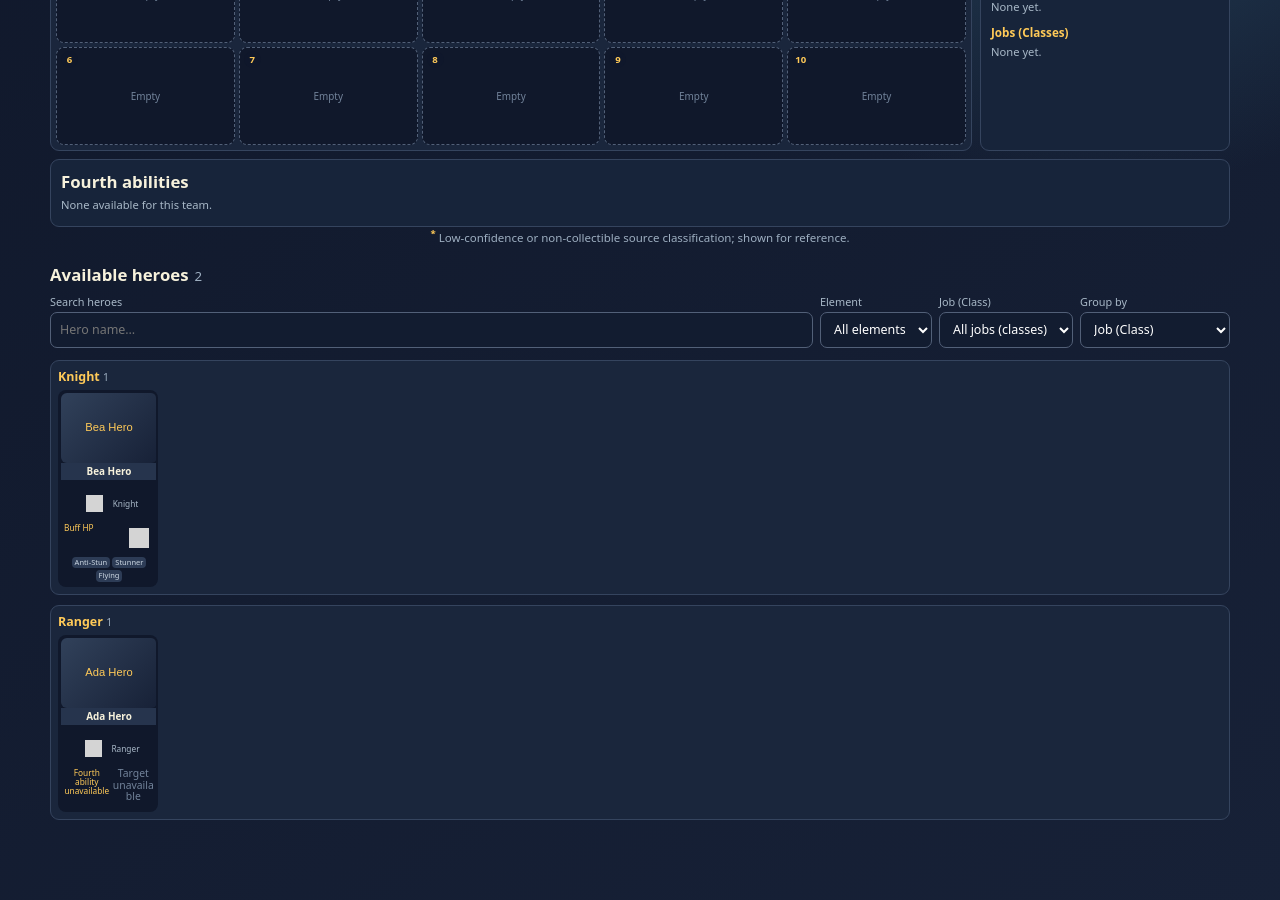
toggles a hero from either portrait list, clears, and updates summaries
(page scrolled)
Click the button with aria-label "Add Ada Hero to team". click: (108, 723)
box: x1=58 y1=635 x2=158 y2=812
(page scrolled)
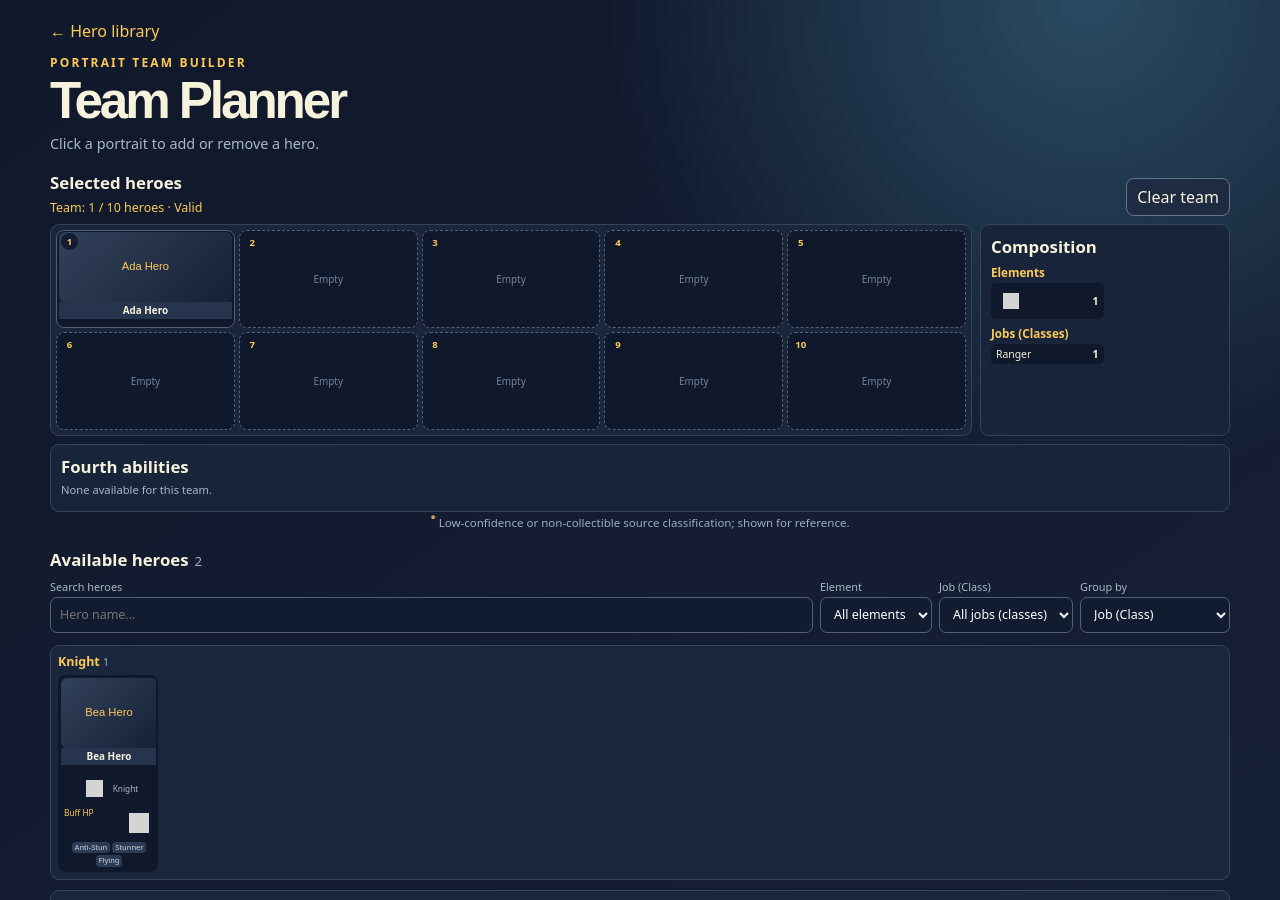
Check: the text "Team: 1 / 10 heroes · Valid" is shown, box x1=50 y1=199 x2=202 y2=216
Check: the list item "1" is shown, box x1=991 y1=283 x2=1104 y2=319
Check: the number of buttons named "Remove Ada Hero from team" is 2
Click the button titled "Remove Ada Hero". click: (145, 279)
box: x1=58 y1=231 x2=233 y2=327
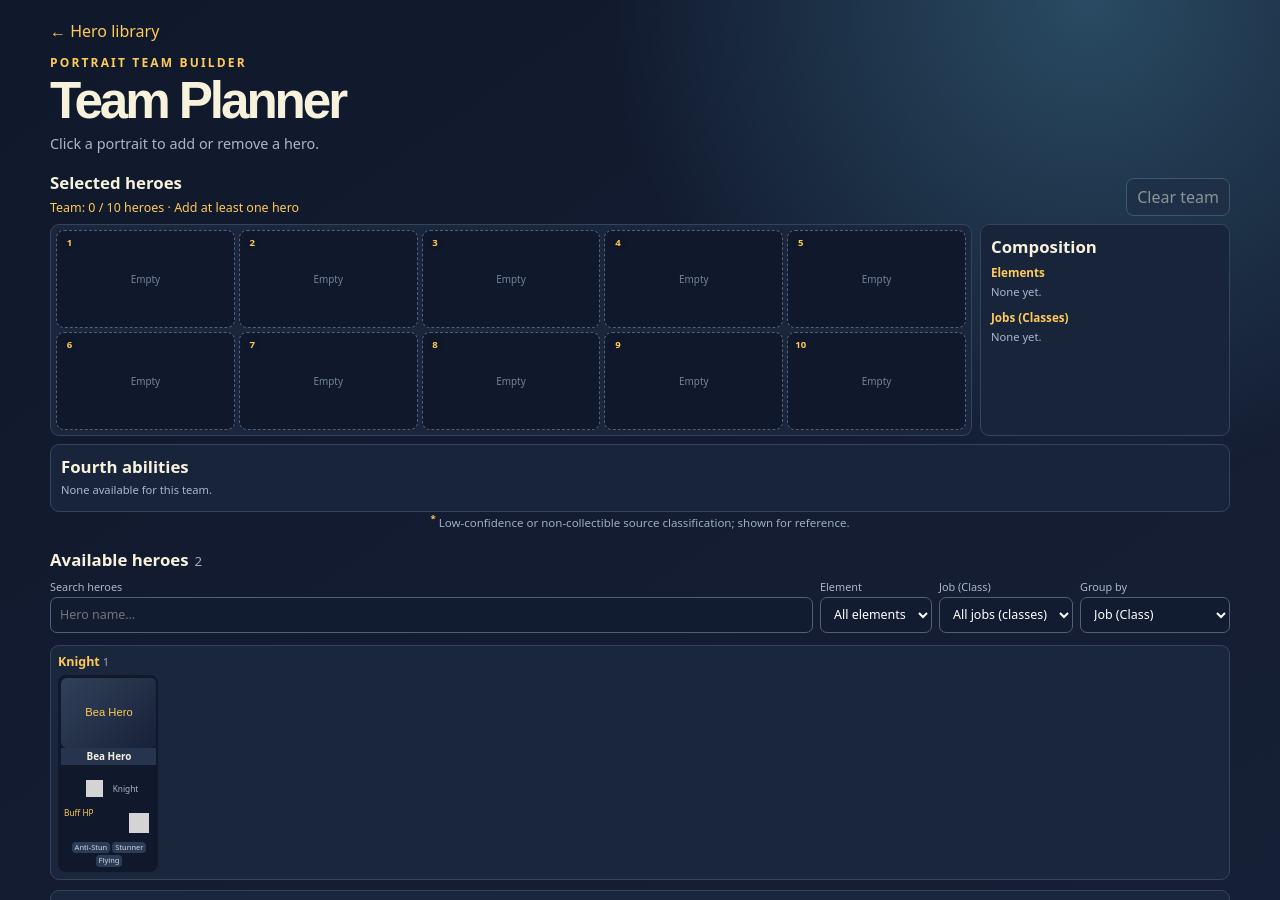
Check: the text "Team: 0 / 10 heroes · Add at least one hero" is shown, box x1=50 y1=199 x2=299 y2=216
Click the button with aria-label "Add Bea Hero to team". click: (108, 773)
box: x1=58 y1=675 x2=158 y2=872
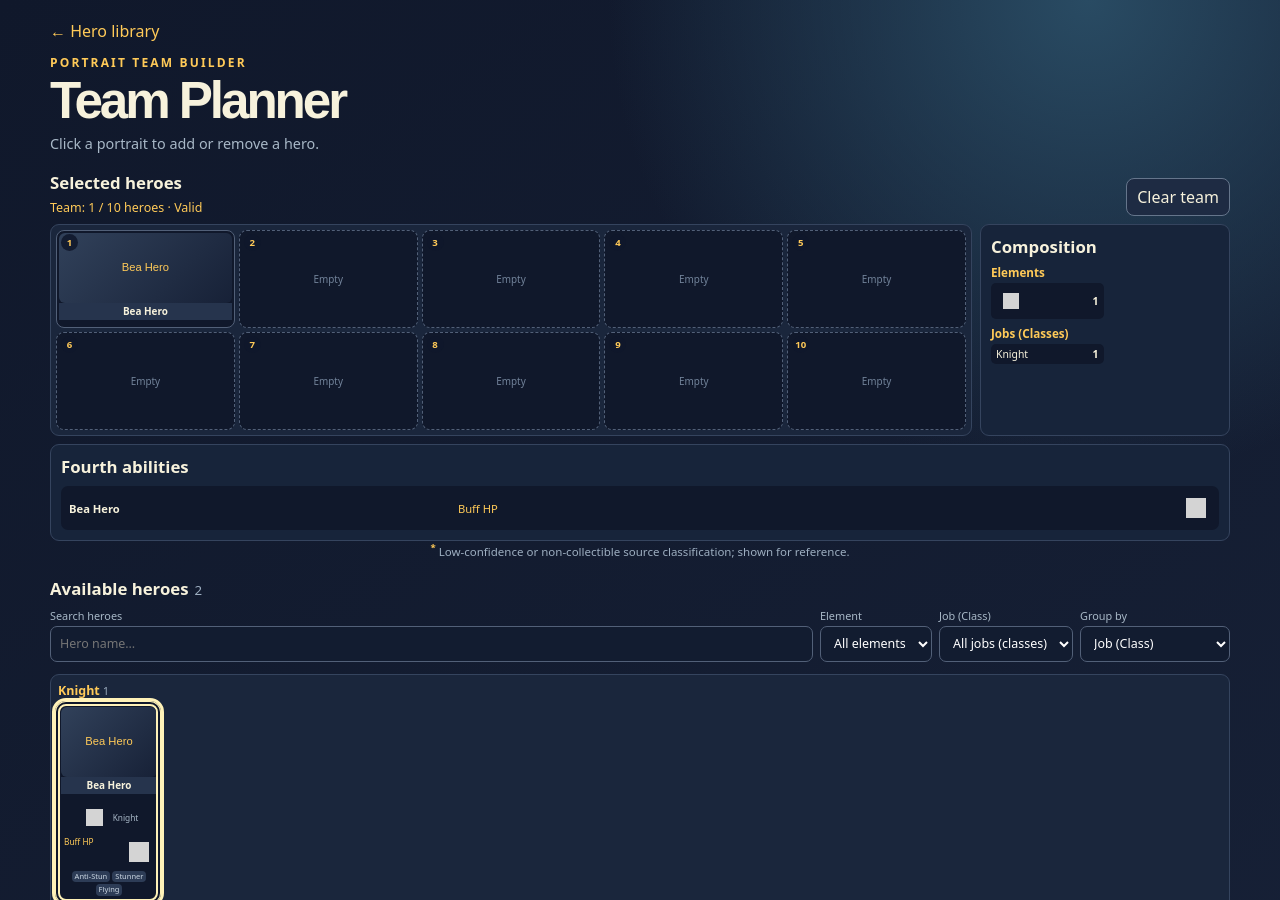
Check: the text "Buff HP" below "Jobs (Classes)" is shown, box x1=458 y1=500 x2=498 y2=516
Click the button with aria-label "Remove Bea Hero from team". click: (108, 802)
box: x1=58 y1=704 x2=158 y2=899
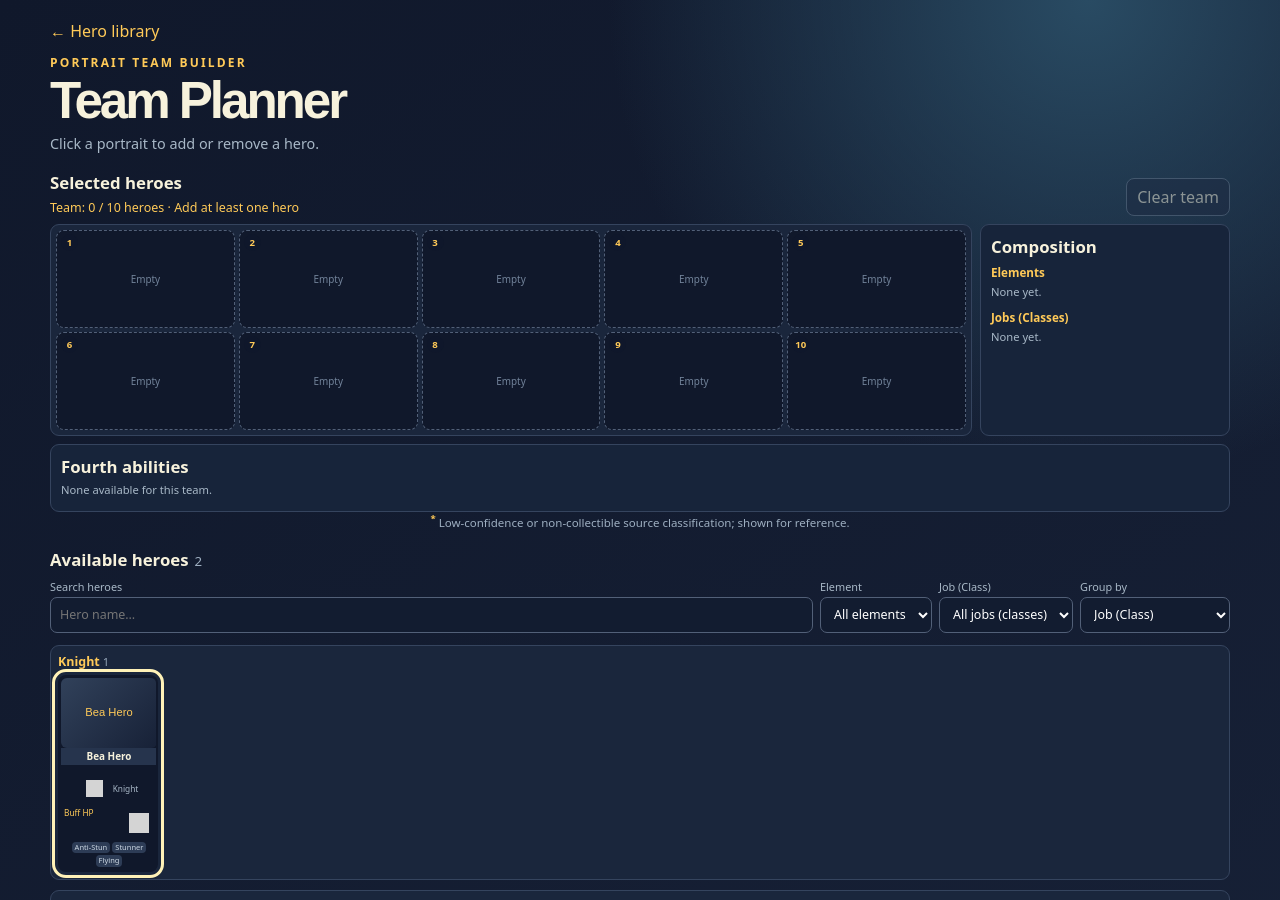
Check: the text "Team: 0 / 10 heroes · Add at least one hero" is shown, box x1=50 y1=199 x2=299 y2=216
Click the button with aria-label "Add Bea Hero to team". click: (108, 773)
box: x1=58 y1=675 x2=158 y2=872
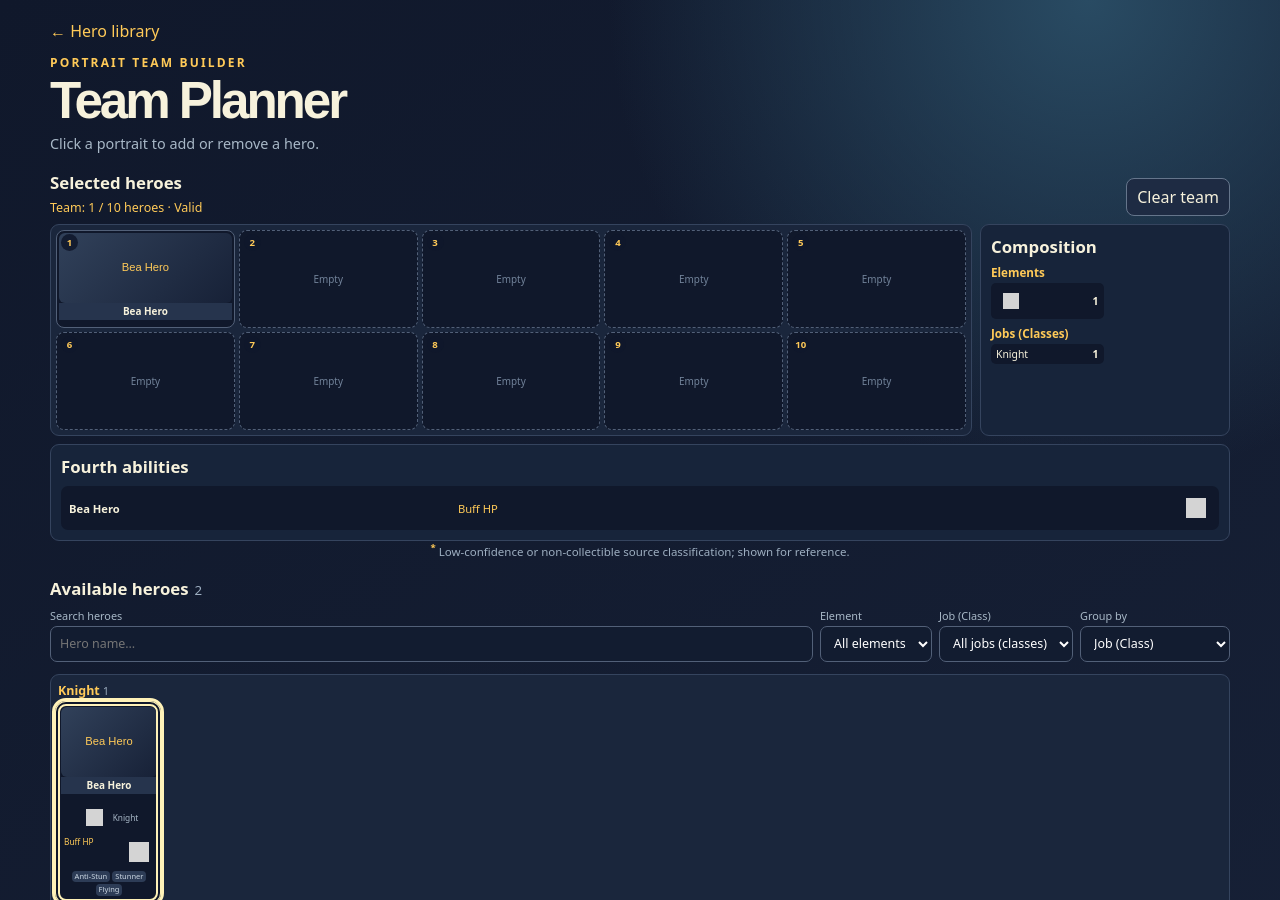
Click the button "Clear team". click: (1178, 197)
box: x1=1126 y1=178 x2=1230 y2=216
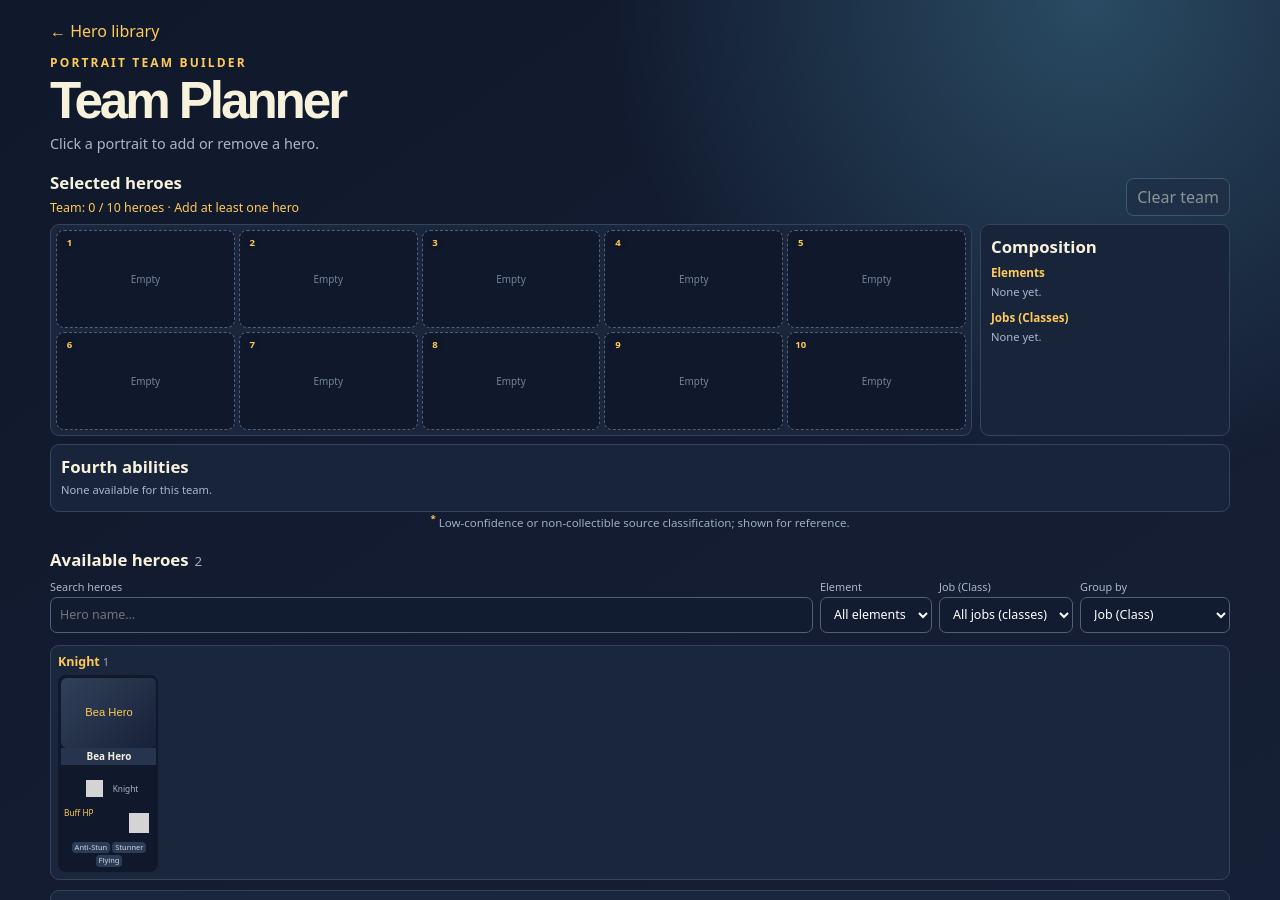
Check: the text "Team: 0 / 10 heroes · Add at least one hero" is shown, box x1=50 y1=199 x2=299 y2=216
